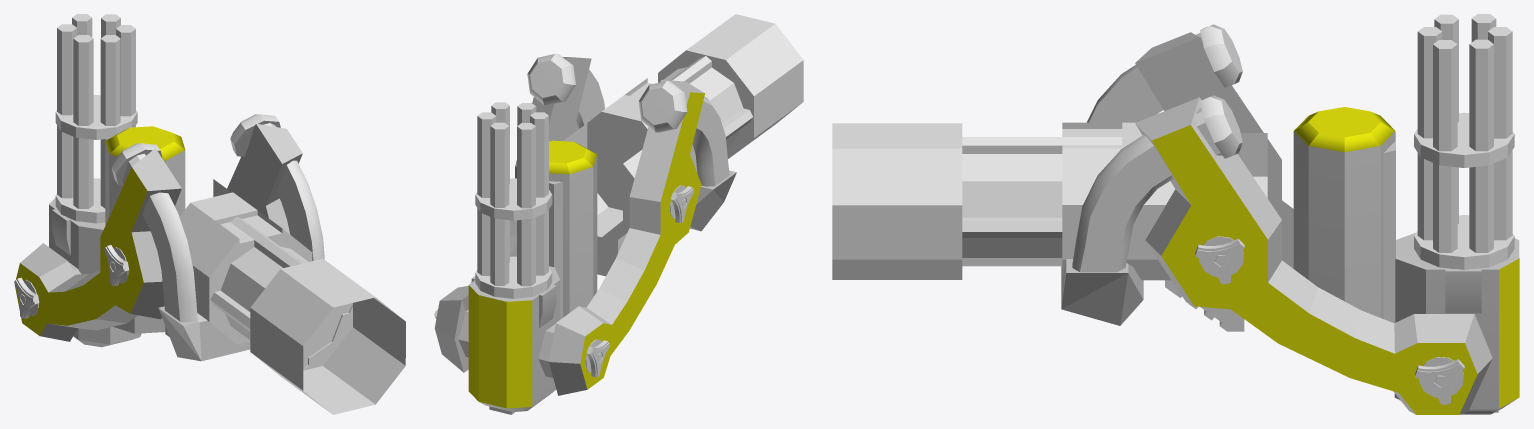
Rendered from Axiel_MGT.fbx.
3 renders of one model, left to right at view 1: azimuth 30°, elevation 25°; view 2: azimuth 150°, elevation 25°; view 3: azimuth 270°, elevation 25°, orthographic. The views are drawn at different scales.
Parts seen in each view (by area): view 1: Rotating_stand, Gun_Arms, Gun_Barrels, Pivot_arms, Center_Base, Ammo_Drum; view 2: Gun_Arms, Ammo_Drum, Gun_Barrels, Rotating_stand, Pivot_arms, Center_Base; view 3: Gun_Arms, Rotating_stand, Ammo_Drum, Gun_Barrels, Pivot_arms, Center_Base.
Boxes of the visible parts, <box> form: Rotating_stand: <box>210,216,405,414</box>; Gun_Arms: <box>14,123,302,341</box>; Gun_Barrels: <box>55,14,137,223</box>; Pivot_arms: <box>111,114,324,361</box>; Center_Base: <box>104,179,312,344</box>; Ammo_Drum: <box>14,126,185,347</box>; Gun_Arms: <box>434,57,704,395</box>; Ammo_Drum: <box>434,140,609,414</box>; Gun_Barrels: <box>475,102,552,298</box>; Rotating_stand: <box>658,14,803,158</box>; Pivot_arms: <box>527,54,736,231</box>; Center_Base: <box>563,78,697,276</box>; Gun_Arms: <box>1135,32,1492,414</box>; Rotating_stand: <box>832,123,1122,279</box>; Ammo_Drum: <box>1293,107,1519,414</box>; Gun_Barrels: <box>1414,14,1514,269</box>; Pivot_arms: <box>1061,24,1242,325</box>; Center_Base: <box>1062,122,1267,331</box>.
Size of the model in its own units: 7.77 by 13.49 by 22.45.
